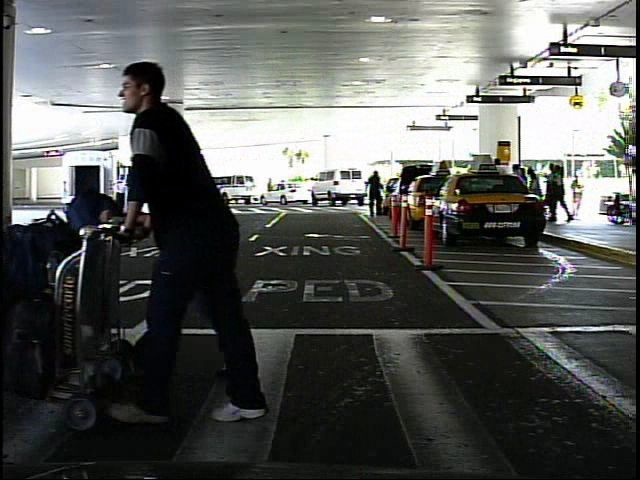person: (121, 46, 285, 425), (365, 167, 387, 223), (571, 171, 588, 218), (112, 170, 130, 209)
